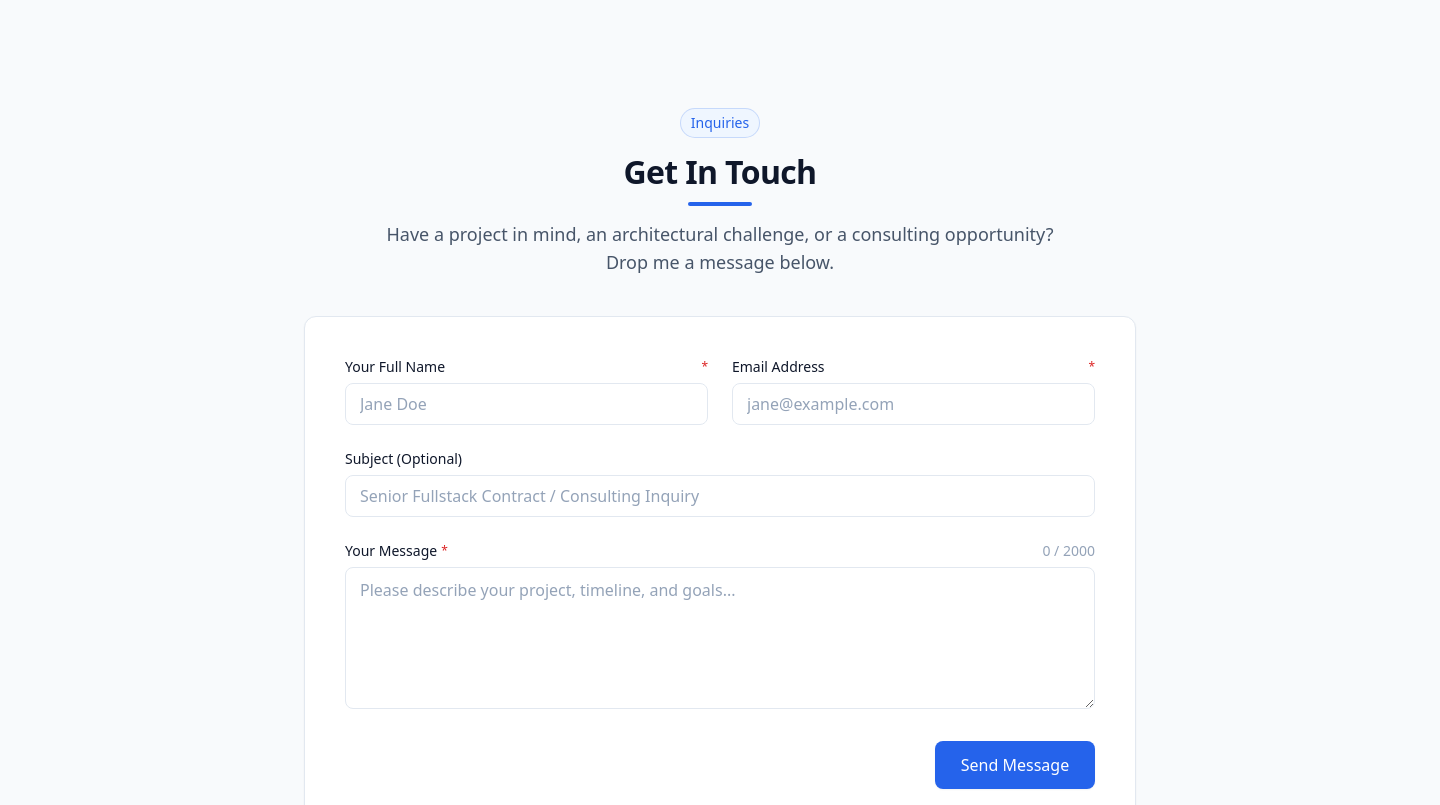
Test case: Contact Form Hostile Adversarial Stress & Double-Submit Testing › 6. Unhandled Synchronous & Asynchronous Exception Resilience: recovers from unexpected exception
Type "Adversarial Tester" into the field labelled "Your Full Name *".
click(526, 404); type("Adversarial Tester")  # box [345,383,708,425]
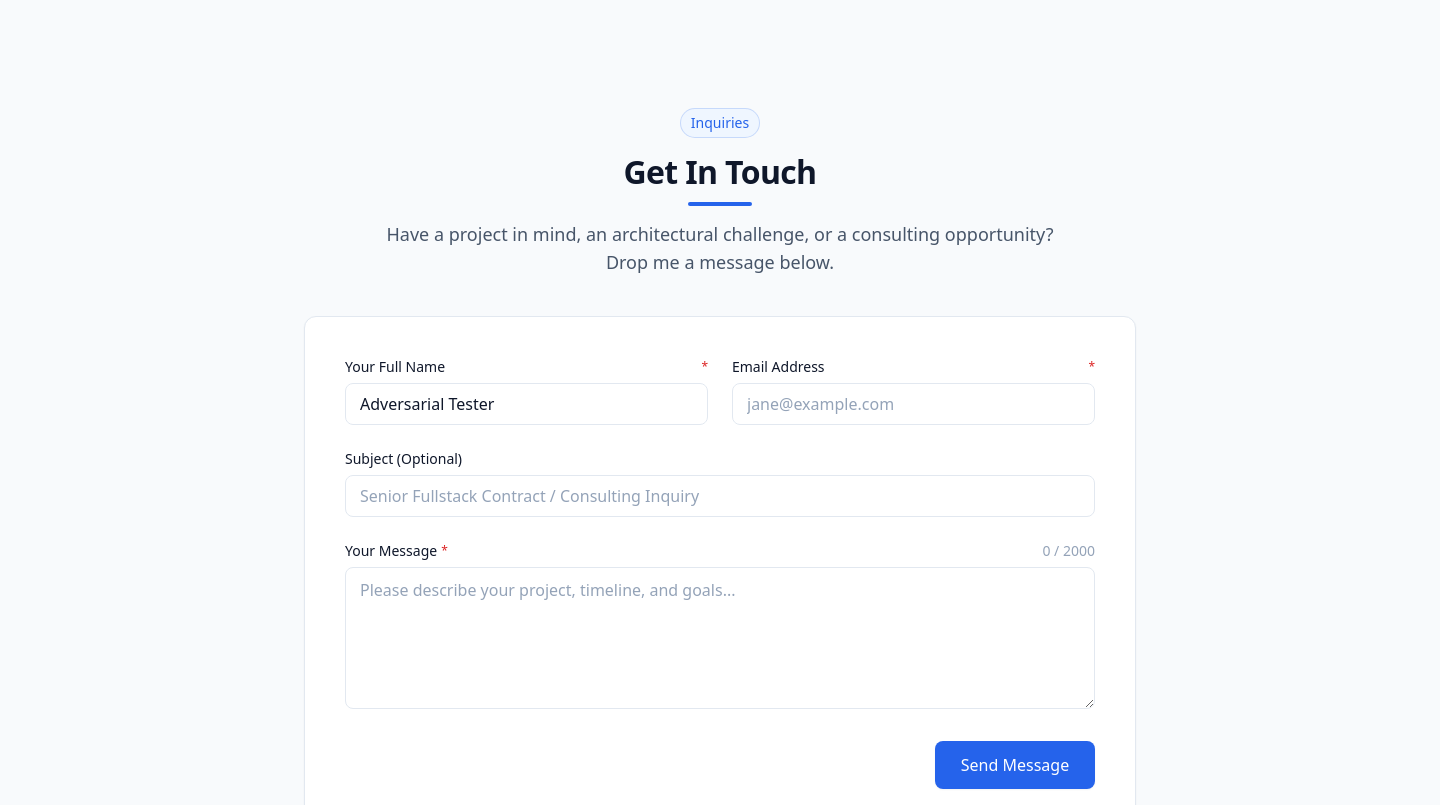
Type "tester@hostile-security.org" into the field labelled "Email Address *".
click(914, 404); type("tester@hostile-security.org")  # box [732,383,1095,425]
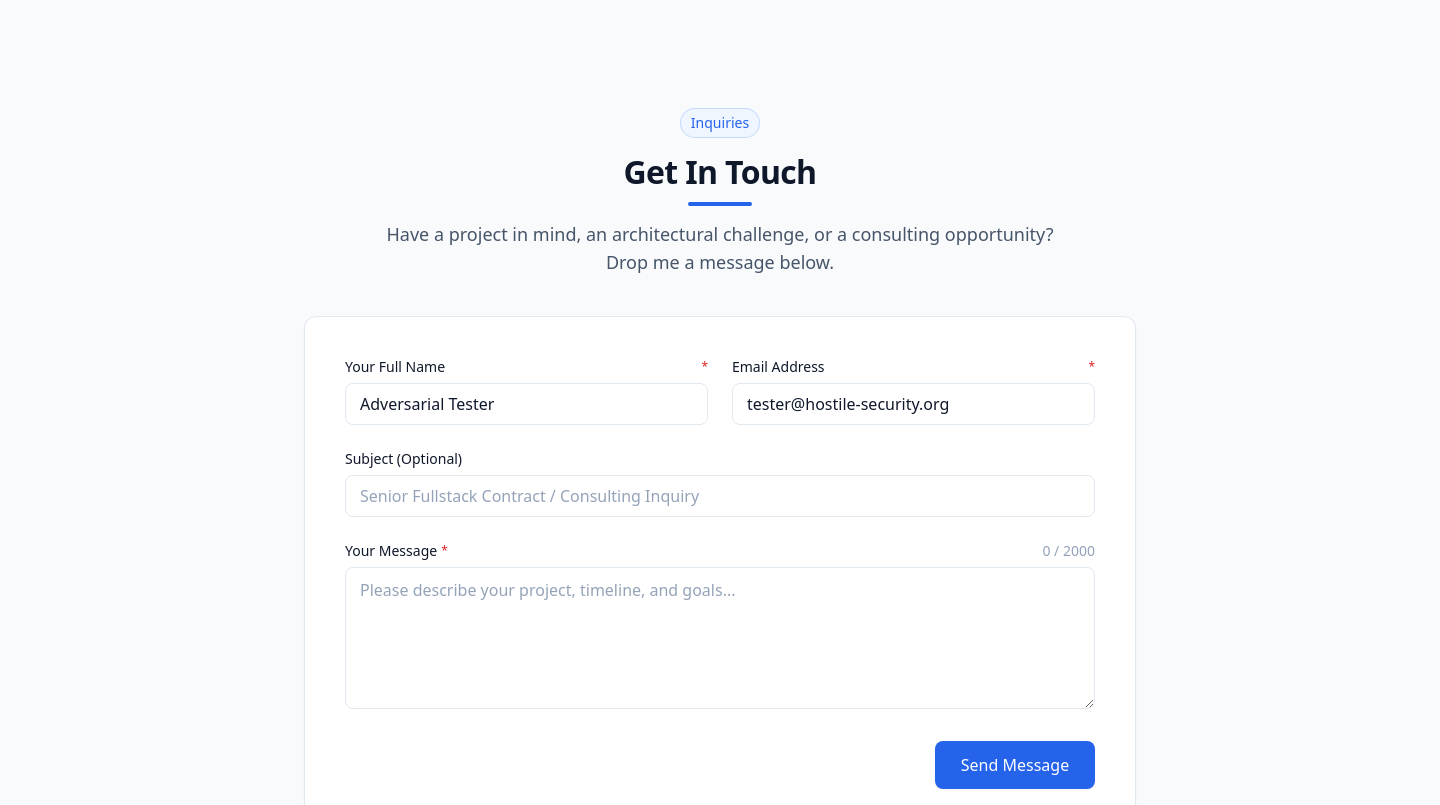
Type "Penetration Stress Test" into the field labelled "Subject (Optional)".
click(720, 496); type("Penetration Stress Test")  # box [345,475,1095,517]
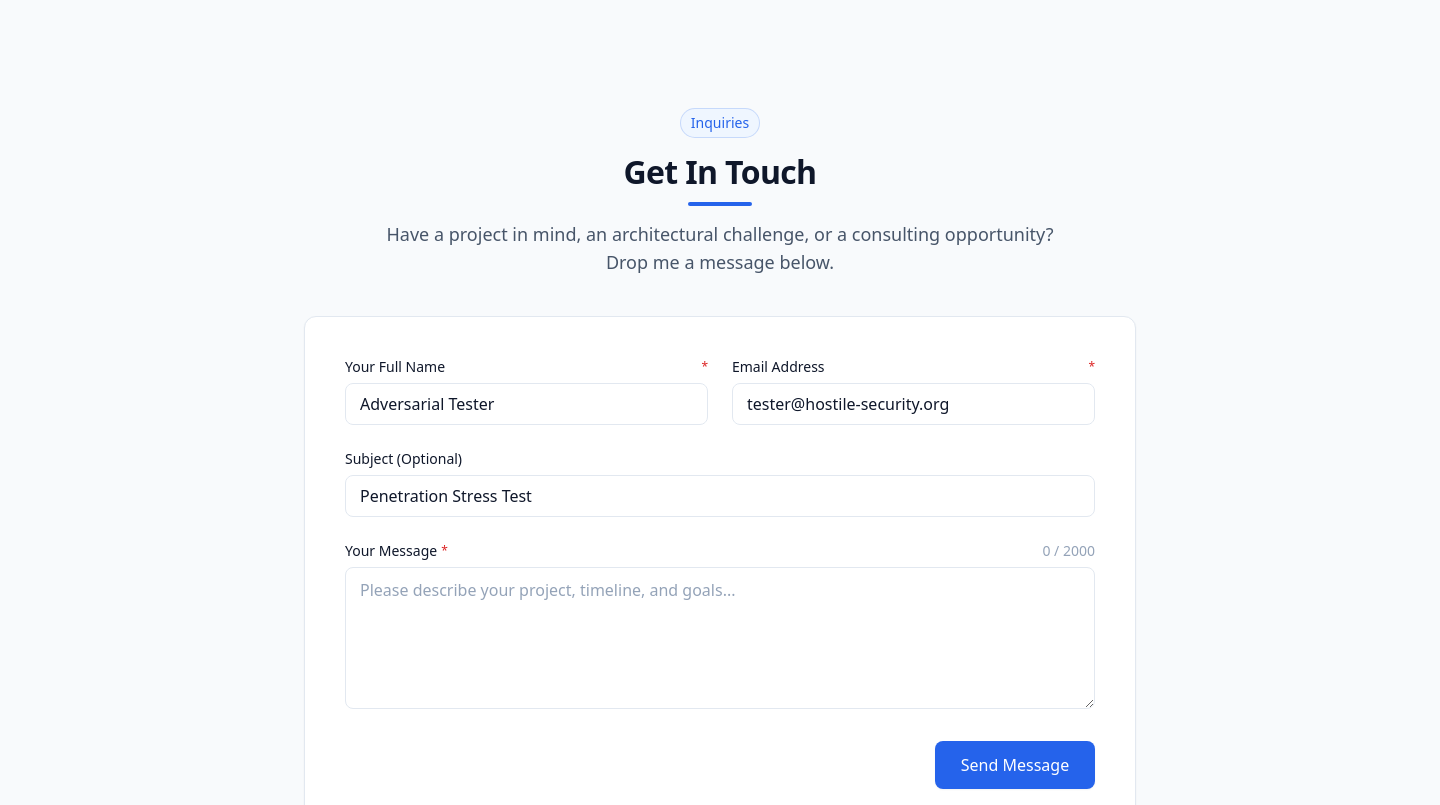
Type "This message is sent under extreme burst conditions." into the text box labelled "Your Message *".
click(720, 638); type("This message is sent under extreme burst conditions.")  # box [345,567,1095,709]
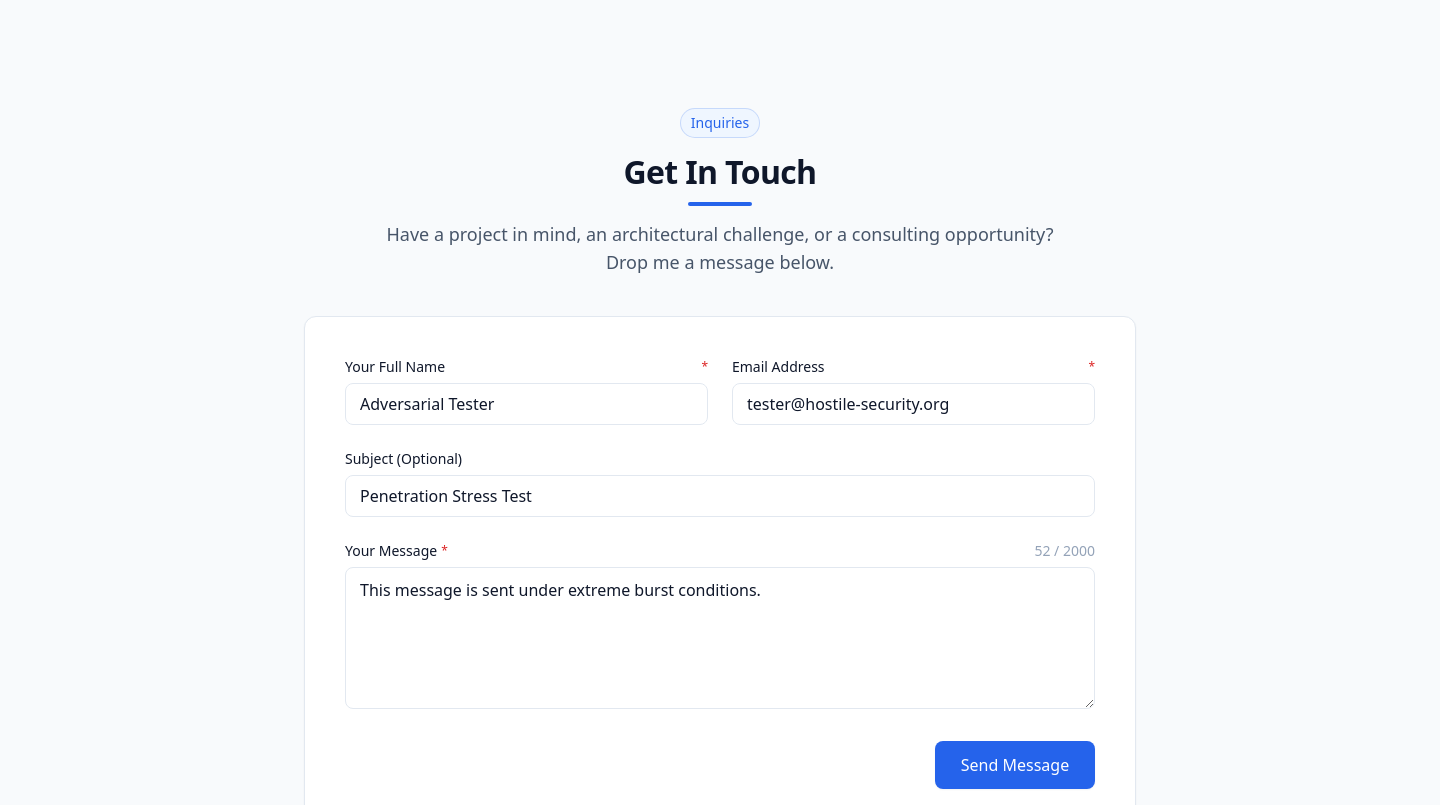
Click the button "Send Message".
click(1015, 765)  # box [935,741,1095,789]
(page scrolled)
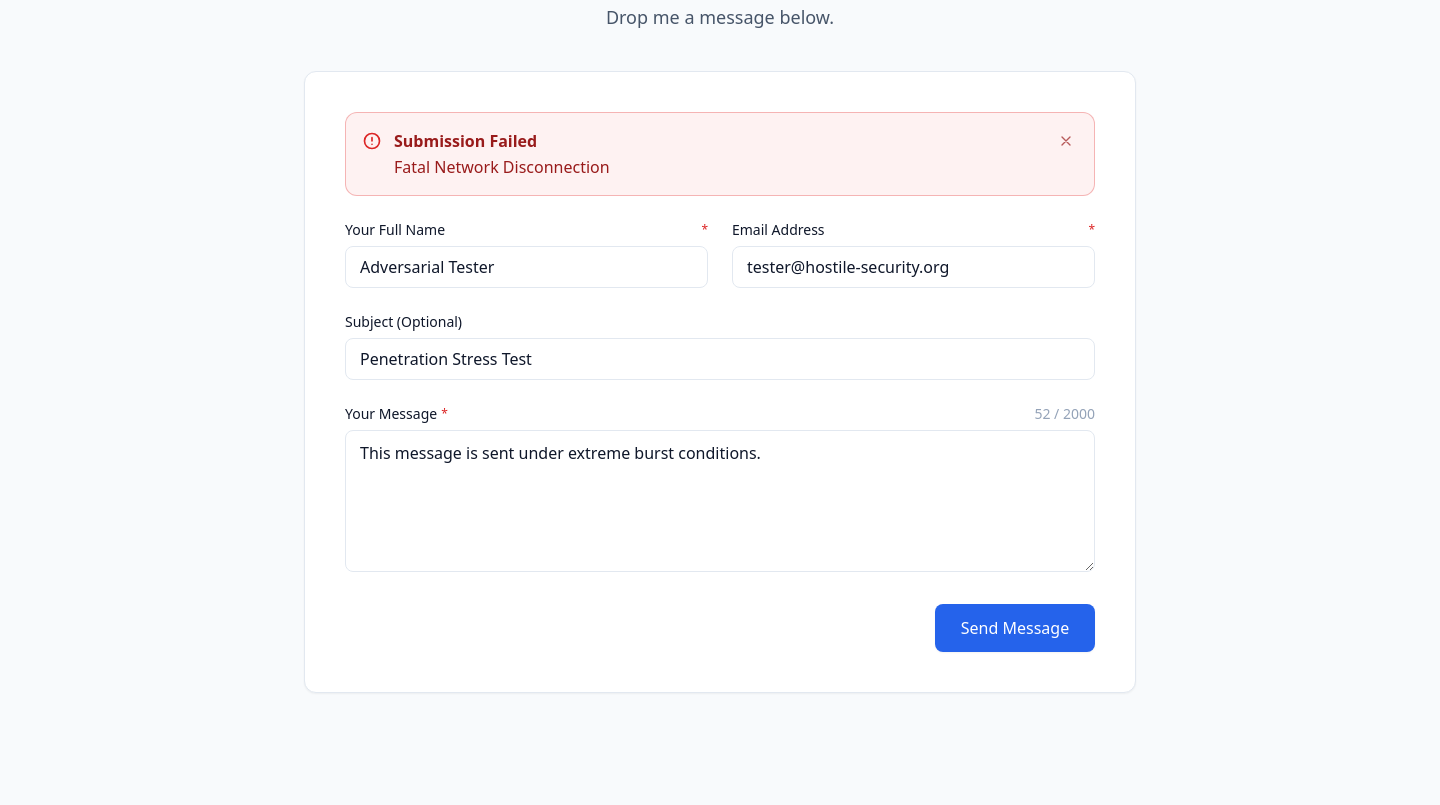
Expected: the button "Send Message" is enabled, [935,604,1095,652]
Now the text "Fatal Network Disconnection" is shown, box [394,156,610,178]
